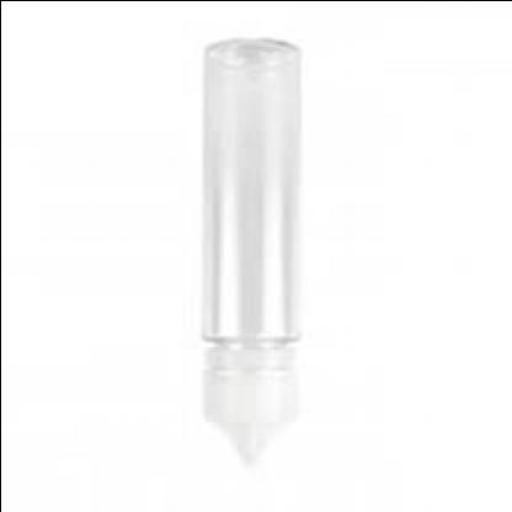glass: (195, 41, 296, 353)
plastic: (200, 346, 296, 469)
